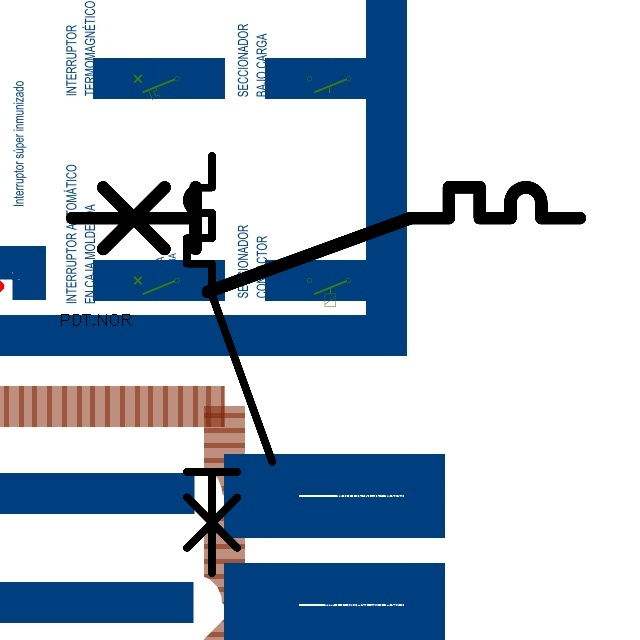interruptor_termomagnetico: (59, 174, 593, 305), (176, 145, 283, 584)
